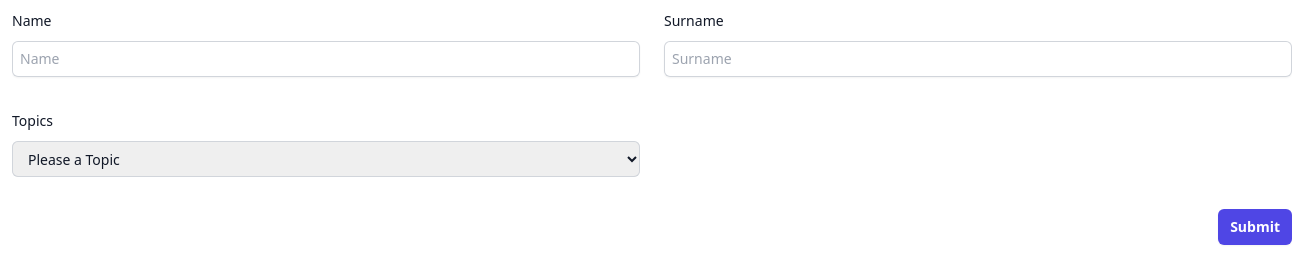
it: Form component › Should render Other topic input when other is selected in topic select component
The image size is (1304, 262).
Step 1. Select "Other" in the dropdown with test id "topic" → (326, 159), box [12,141,640,177]
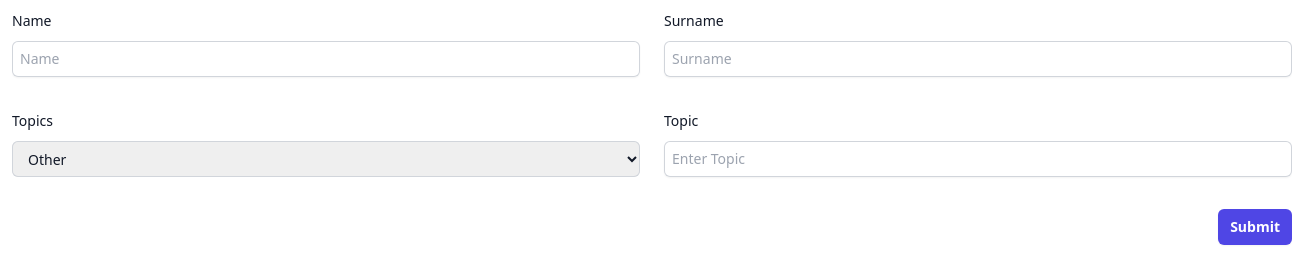
expect the field with test id "othertopic" is shown: met, box [664,141,1292,177]
